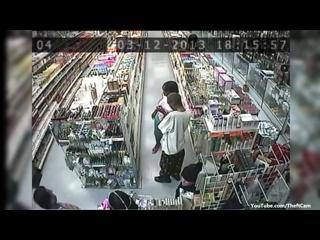Normal: (153, 93, 192, 183), (151, 81, 179, 154)
